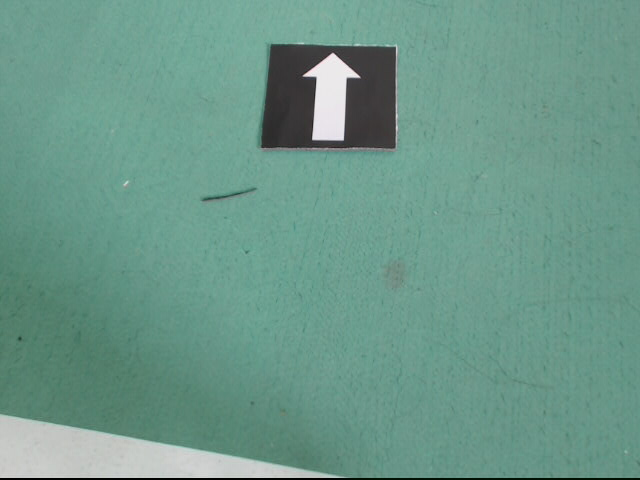straight: (261, 45, 401, 150)
